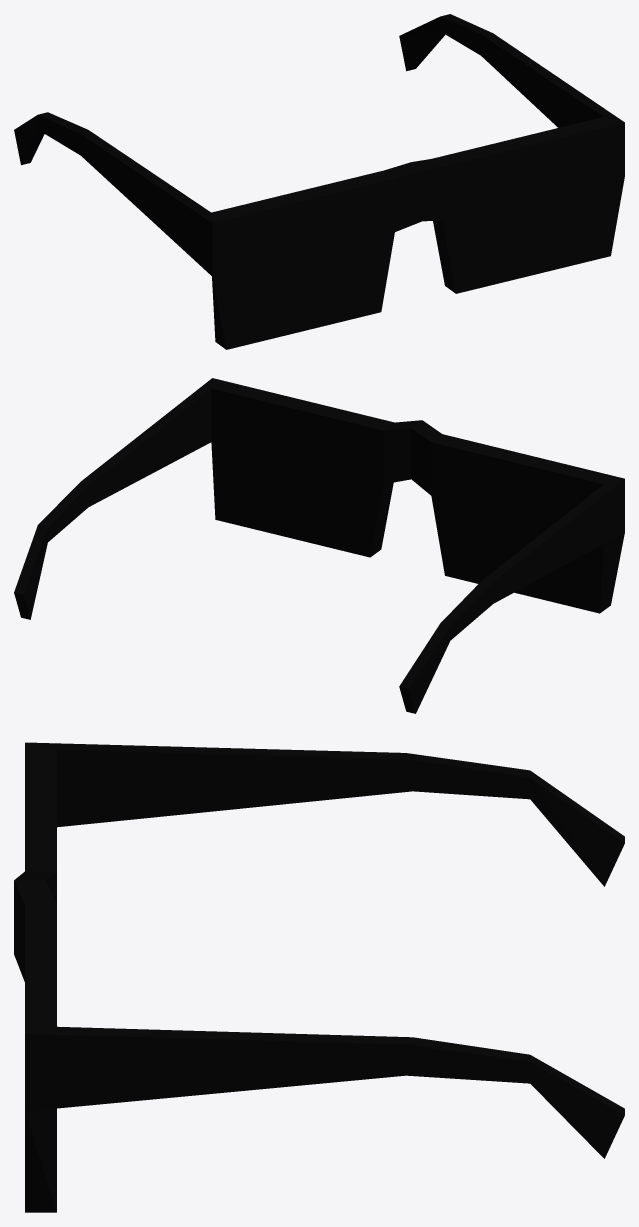
The model's file is Theylive.glb.
The picture shows the model from 3 angles, top to bottom: view 1: azimuth 30°, elevation 25°; view 2: azimuth 150°, elevation 25°; view 3: azimuth 270°, elevation 25°; orthographic projection. The views are drawn at different scales.
Size of the model in its own units: 4.02 by 1.26 by 3.57.
1 material, 1 textured.
